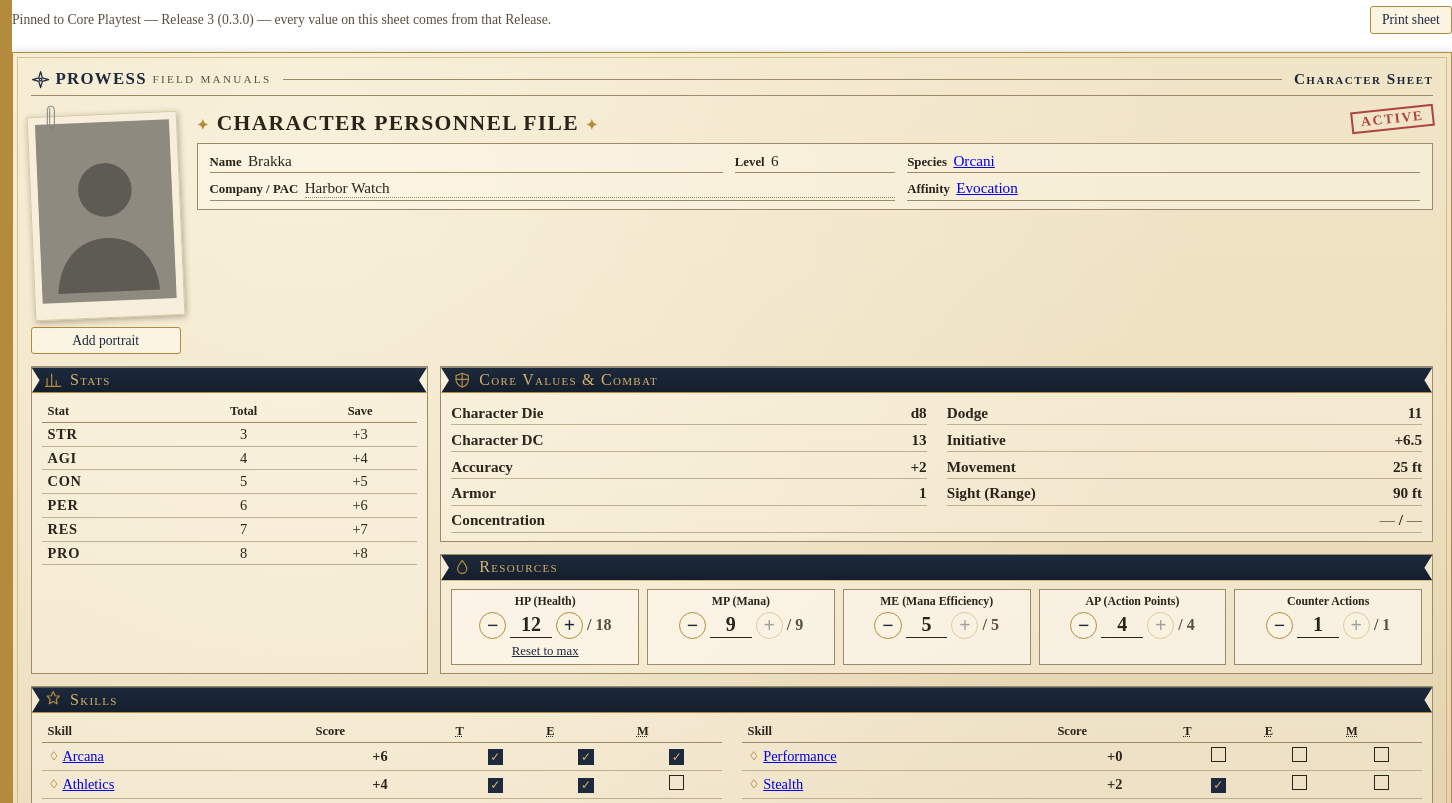
Test case: M6-WO5 interaction (§29–§35, §44, §63) › a refused value shows the server's message; a stale write reloads the sheet
Click the button named "Increase HP (Health)": (569, 625) left=556, top=612, right=583, bottom=639
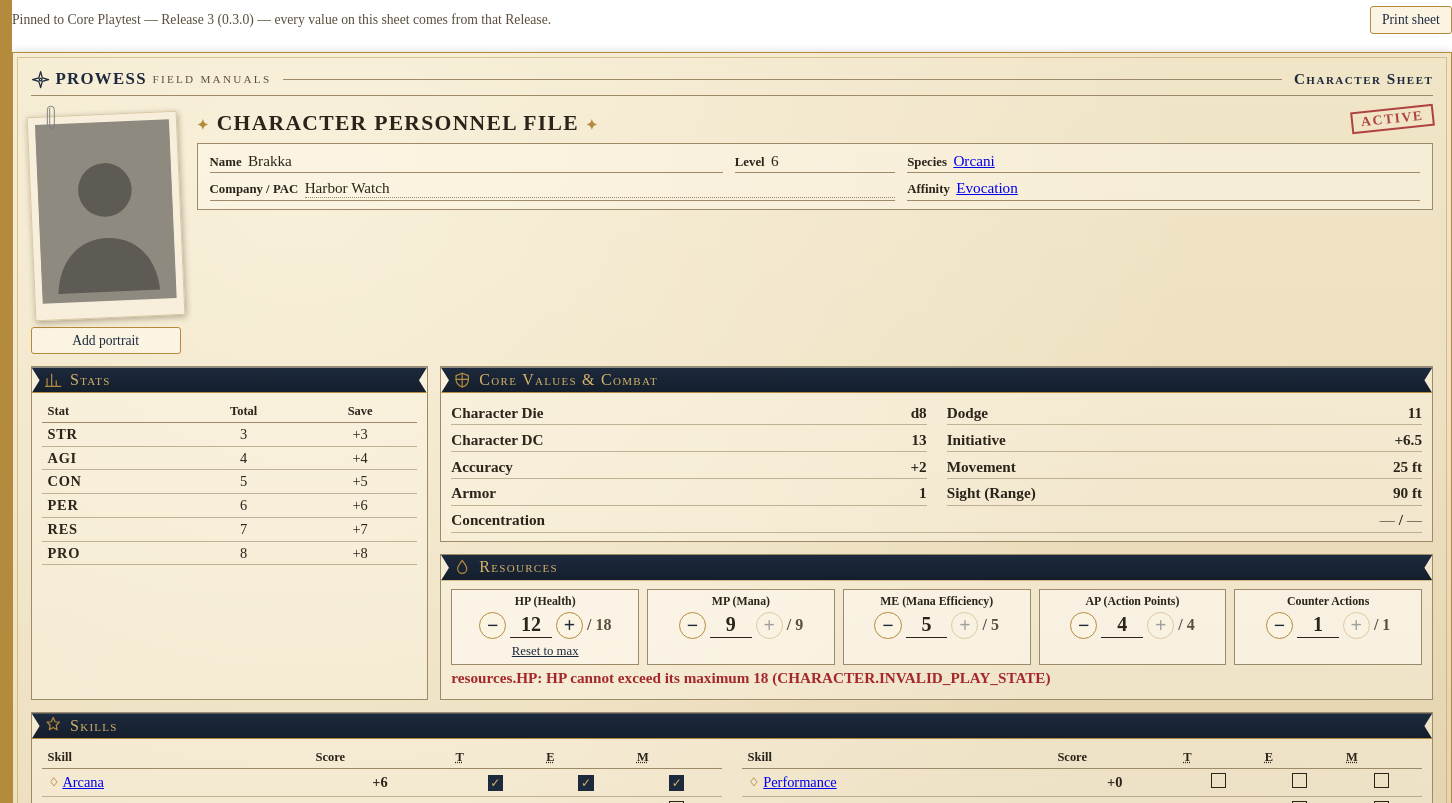
Check: the message with test id "sheet-resource-message" reads "resources.HP: HP cannot exceed its maximum 18 (CHARACTER.INVALID_PLAY_STATE)", box left=451, top=669, right=1051, bottom=686
Click the button named "Increase HP (Health)": (569, 625) left=556, top=612, right=583, bottom=639
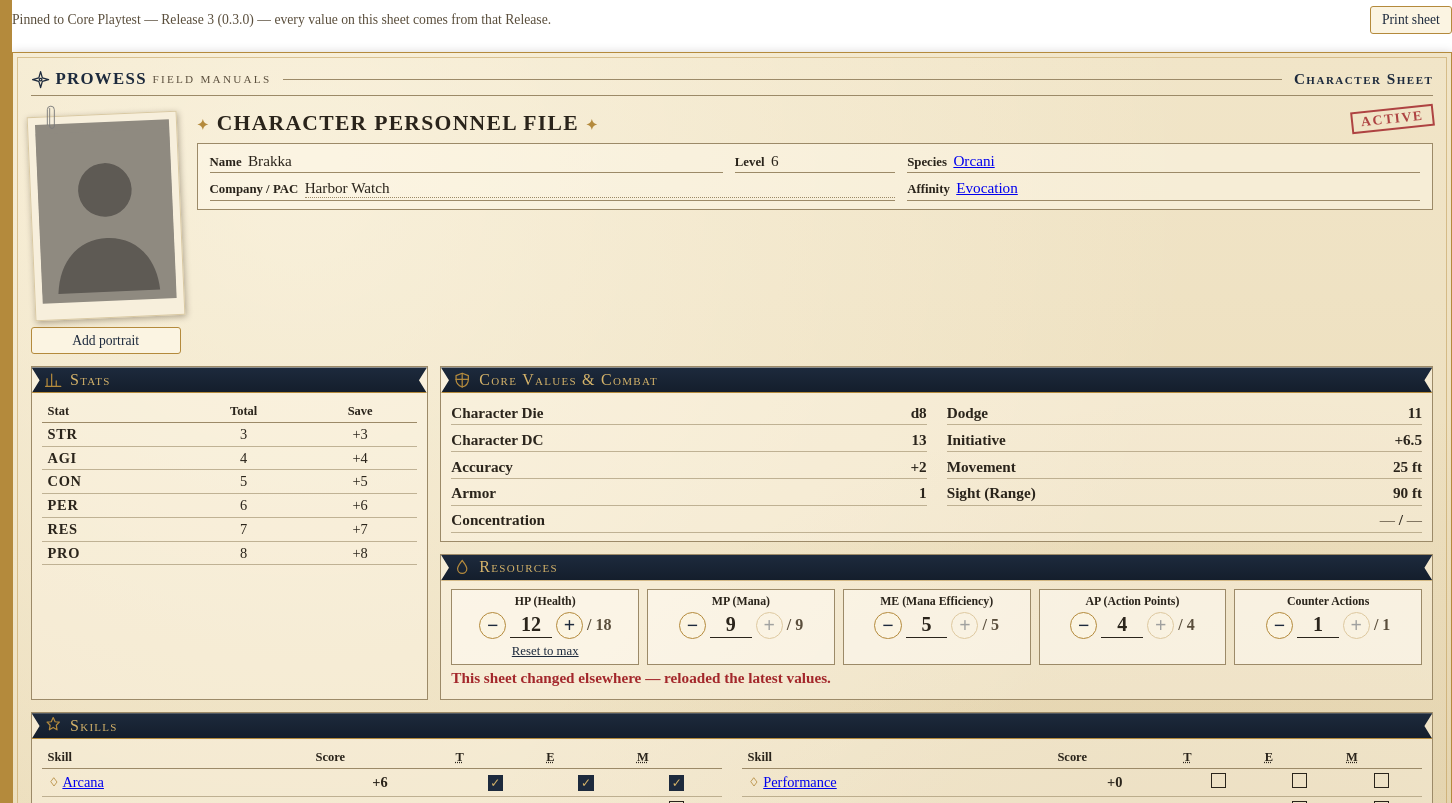
Check: the message with test id "sheet-resource-message" shows "changed elsewhere", box left=451, top=669, right=831, bottom=686
